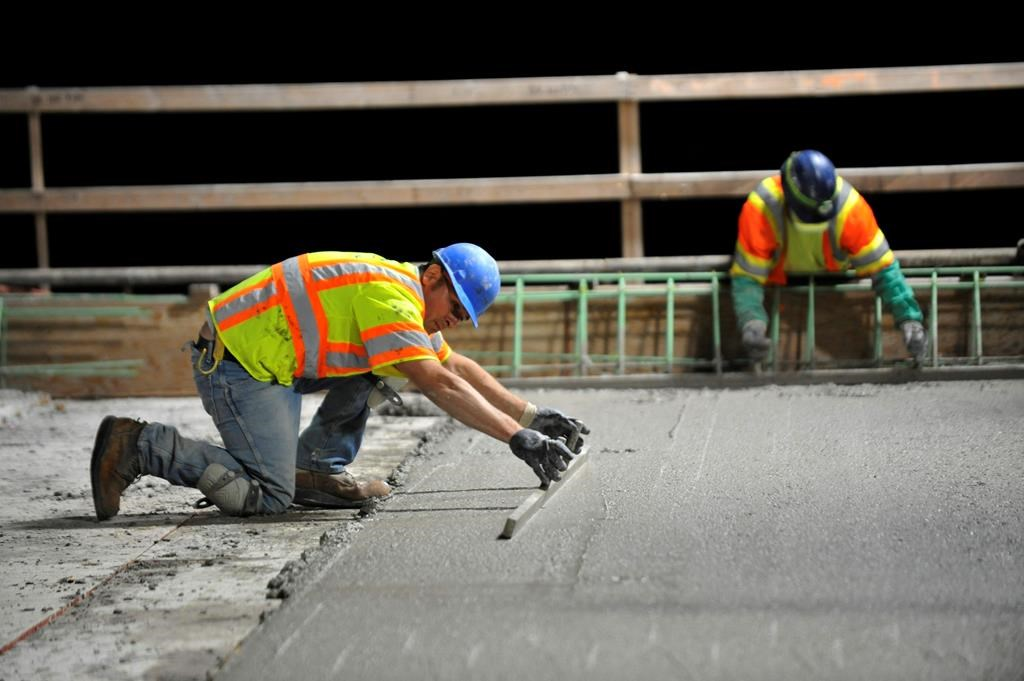Hard Hat: (423, 246, 501, 338), (775, 151, 843, 228)
Person: (89, 243, 586, 517), (725, 149, 932, 364)
Vest: (191, 242, 470, 394), (730, 176, 900, 288)
